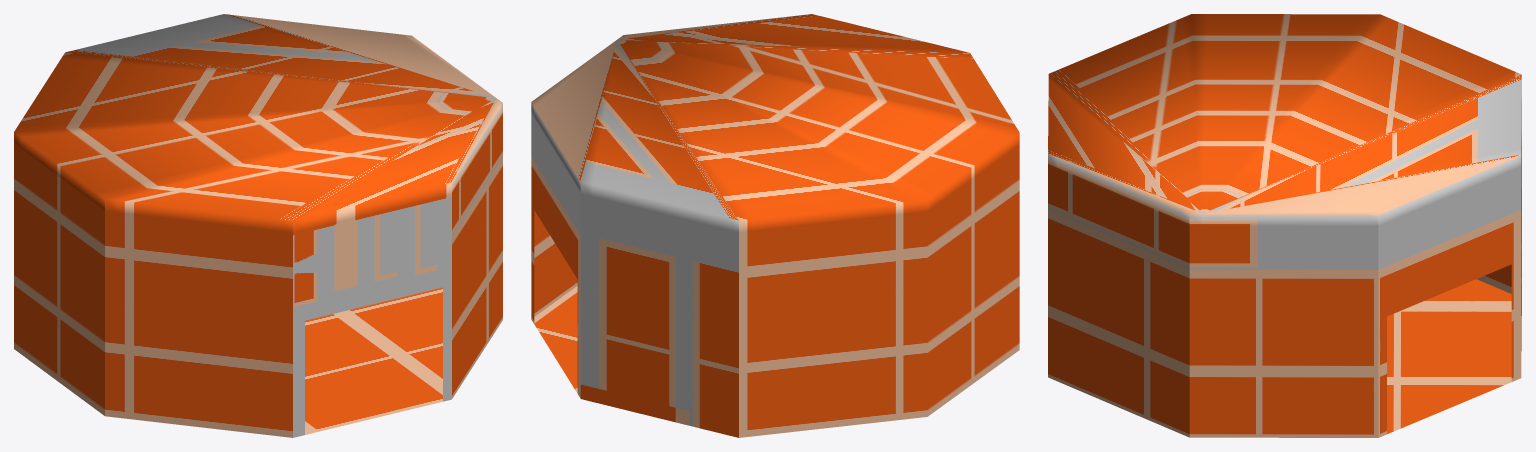
Rendered from boş_kat_2.fbx.
3 views of the same model, side by side, from view 1: azimuth 30°, elevation 25°; view 2: azimuth 150°, elevation 25°; view 3: azimuth 270°, elevation 25° (orthographic). The views are drawn at different scales.
Parts seen in each view (by area): view 1: Cube.002; view 2: Cube.002; view 3: Cube.002.
Boxes of the visible parts, left/top/right/bottom form: Cube.002: left=14, top=14, right=502, bottom=437; Cube.002: left=531, top=14, right=1019, bottom=437; Cube.002: left=1048, top=14, right=1521, bottom=437.
Size of the model in its own units: 200 by 104 by 200.
